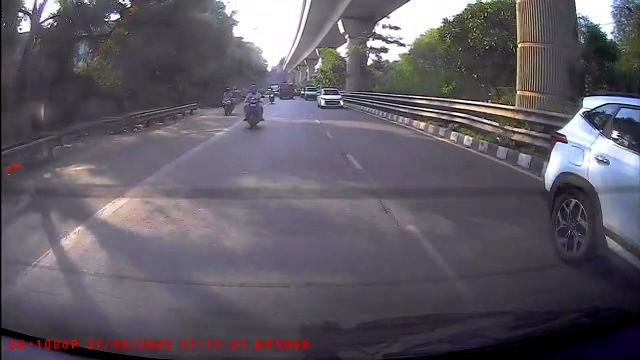motorcycle_with_helmet: (242, 83, 265, 130)
